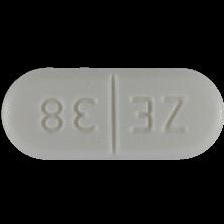68382-182: (0, 0, 224, 224)
